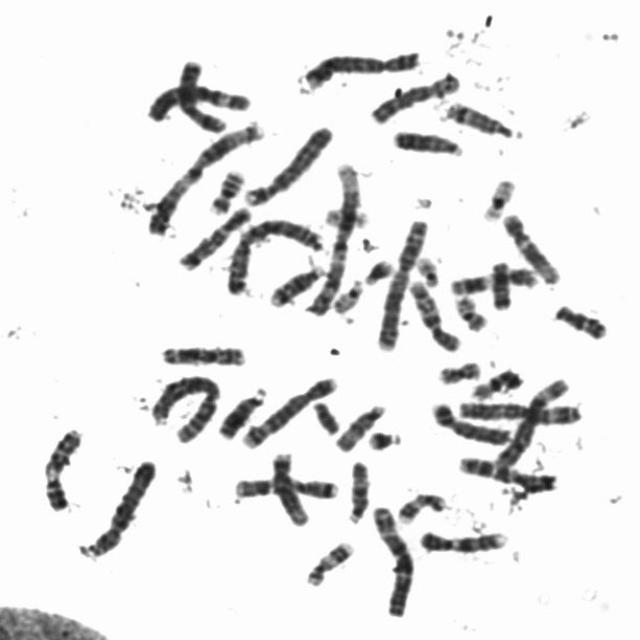A1: (142, 116, 267, 236), (300, 155, 363, 317)
A2: (372, 214, 430, 353), (145, 369, 223, 445)
A3: (368, 501, 418, 619), (454, 394, 586, 427)
B4: (79, 454, 160, 560), (239, 120, 336, 208)
B5: (237, 371, 341, 451), (297, 45, 424, 91)
C10: (173, 201, 256, 273), (404, 275, 464, 353)
C11: (445, 261, 542, 296), (156, 340, 248, 368)
C12: (497, 207, 563, 286), (267, 448, 313, 528)
C6: (491, 371, 573, 470), (141, 78, 255, 122)
C7: (454, 450, 559, 492), (230, 471, 342, 500)
C8: (364, 67, 462, 126), (426, 397, 515, 447)
C9: (38, 423, 86, 513), (414, 524, 511, 555)
D13: (213, 382, 269, 441), (387, 124, 466, 159)
D14: (440, 96, 525, 140), (264, 259, 328, 308)
D15: (330, 398, 388, 453), (342, 456, 372, 526)
E16: (465, 363, 524, 401), (204, 165, 246, 216)
E17: (302, 536, 356, 588), (393, 487, 449, 525)
E18: (549, 298, 611, 342), (487, 256, 512, 311)
F19: (477, 173, 519, 223), (319, 202, 372, 229)
F20: (450, 290, 491, 332), (434, 356, 484, 385)
G21: (359, 254, 397, 286), (362, 425, 405, 452)
G22: (328, 274, 366, 316), (411, 251, 443, 289)
X: (173, 55, 230, 135), (426, 397, 515, 447)
Y: (308, 396, 342, 435)
